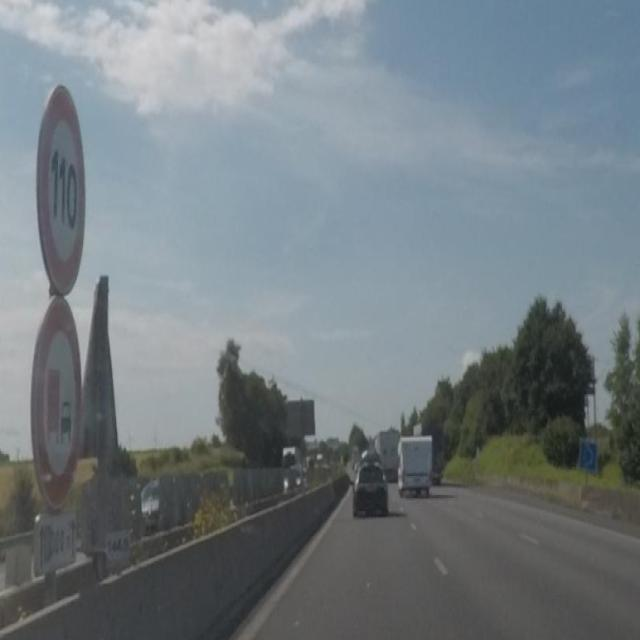speed_110: (39, 85, 85, 294)
